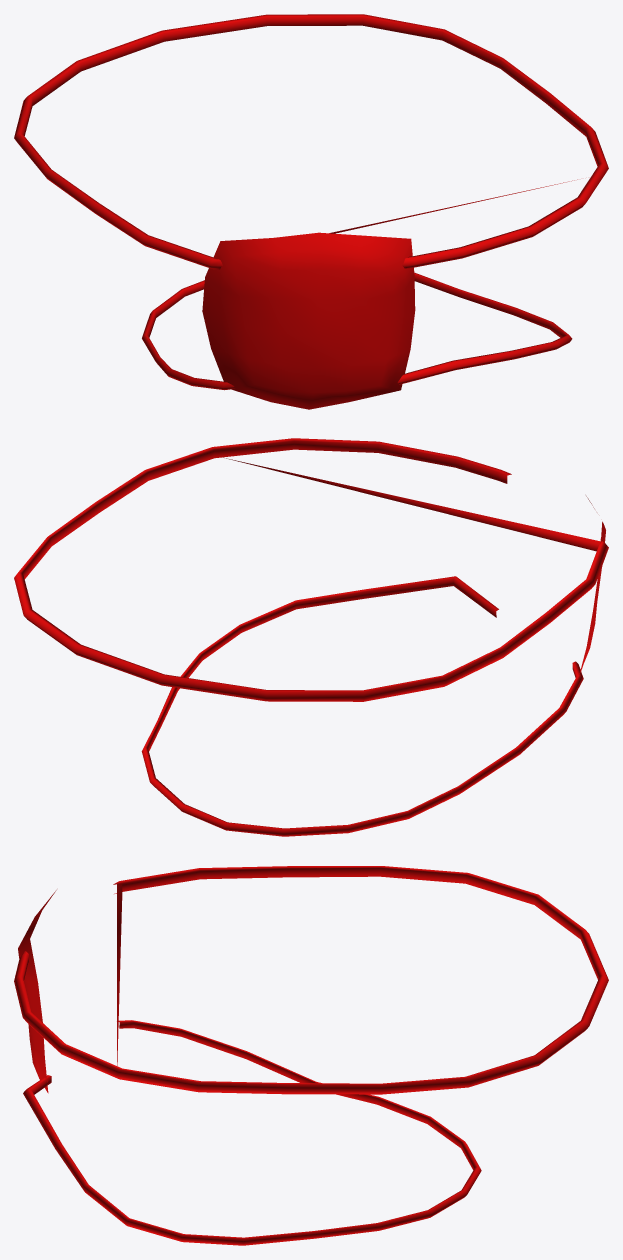
File: UpperFace_MedicalEyePatch.glb
3 renders of one model, top to bottom at view 1: azimuth 30°, elevation 25°; view 2: azimuth 150°, elevation 25°; view 3: azimuth 270°, elevation 25°, orthographic.
Parts seen in each view (by area): view 1: UpperFace_MedicalEyePatch; view 2: UpperFace_MedicalEyePatch; view 3: UpperFace_MedicalEyePatch.
Boxes of the visible parts, x1,y1,x2,y2 form: UpperFace_MedicalEyePatch: (14, 14, 608, 409); UpperFace_MedicalEyePatch: (14, 438, 608, 836); UpperFace_MedicalEyePatch: (14, 866, 608, 1245).
Size of the model in its own units: 0.1935 by 0.0932 by 0.2196.
